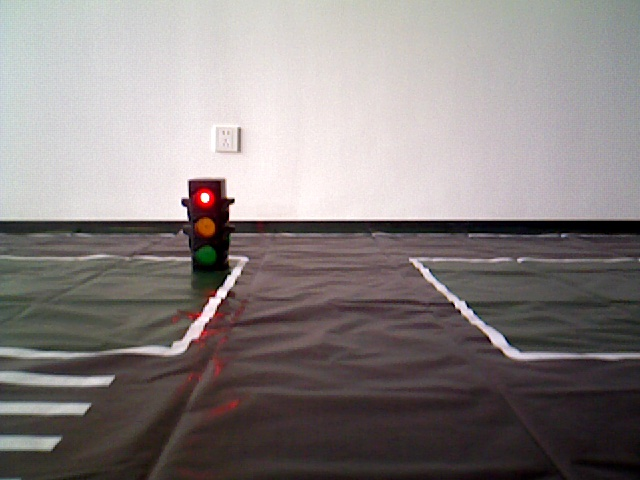red: (190, 181, 225, 282)
